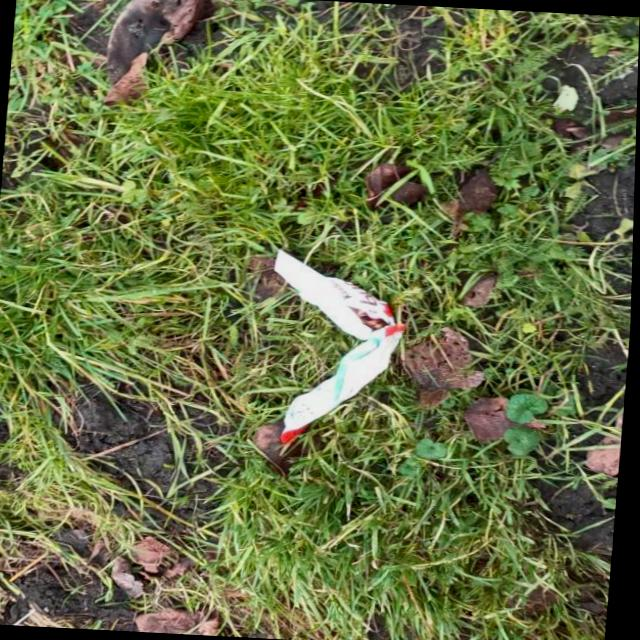Plastic: (260, 246, 415, 454)
